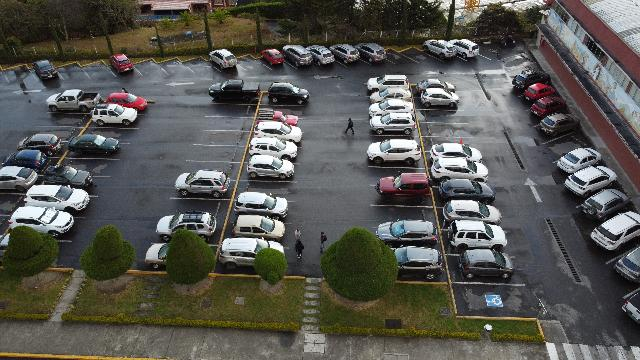Vehiculo: (8, 206, 74, 238), (218, 238, 284, 270), (590, 211, 640, 251), (23, 185, 89, 214), (156, 210, 216, 241), (448, 220, 507, 250), (376, 219, 438, 247), (392, 246, 443, 280), (458, 249, 514, 279), (564, 166, 616, 198), (579, 189, 631, 221), (376, 172, 430, 202), (174, 169, 230, 197), (439, 178, 496, 204), (234, 192, 288, 219), (442, 200, 502, 224), (367, 139, 421, 165), (431, 158, 489, 182), (232, 215, 284, 241), (43, 164, 93, 188), (556, 147, 602, 173), (46, 90, 100, 112), (246, 155, 294, 179), (0, 148, 48, 172), (90, 102, 138, 126), (68, 134, 120, 156), (208, 80, 260, 102), (248, 138, 298, 160), (254, 121, 302, 143), (430, 143, 482, 163), (370, 112, 416, 134), (17, 133, 63, 155), (0, 166, 38, 192), (614, 245, 640, 282), (540, 112, 580, 136), (368, 98, 414, 118), (268, 82, 308, 104), (106, 92, 148, 112), (512, 68, 550, 90), (420, 88, 460, 108), (531, 96, 567, 118), (365, 74, 409, 92), (355, 42, 387, 64), (282, 45, 314, 67), (144, 243, 170, 270), (423, 40, 457, 60), (622, 287, 640, 323), (416, 78, 456, 94), (370, 87, 410, 103), (524, 82, 556, 102), (448, 39, 479, 59), (330, 44, 360, 64), (306, 46, 334, 66), (209, 49, 237, 69), (109, 53, 133, 73), (33, 60, 57, 80), (260, 48, 284, 66), (272, 110, 298, 126), (0, 231, 10, 262)
